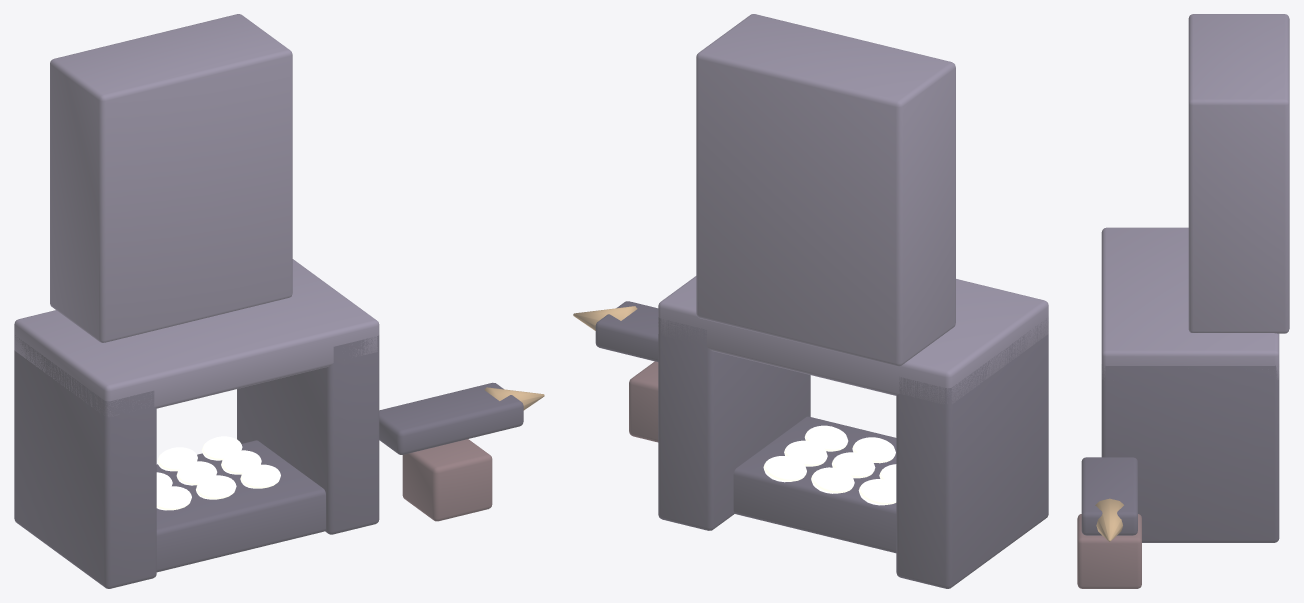
Rendered from castle_detail_forge_cursed.glb.
The picture shows the model from 3 angles, left to right: view 1: azimuth 30°, elevation 25°; view 2: azimuth 150°, elevation 25°; view 3: azimuth 270°, elevation 25°; orthographic projection. The views are drawn at different scales.
Parts seen in each view (by area): view 1: castle_detail_forge_cursed_surface; view 2: castle_detail_forge_cursed_surface; view 3: castle_detail_forge_cursed_surface.
Part boxes in pixels (box(x1,y1,x2,y2)): castle_detail_forge_cursed_surface: box(14, 14, 544, 588); castle_detail_forge_cursed_surface: box(573, 14, 1048, 588); castle_detail_forge_cursed_surface: box(1077, 14, 1289, 588).
Size of the model in its own units: 5.95 by 5.8 by 2.62.
